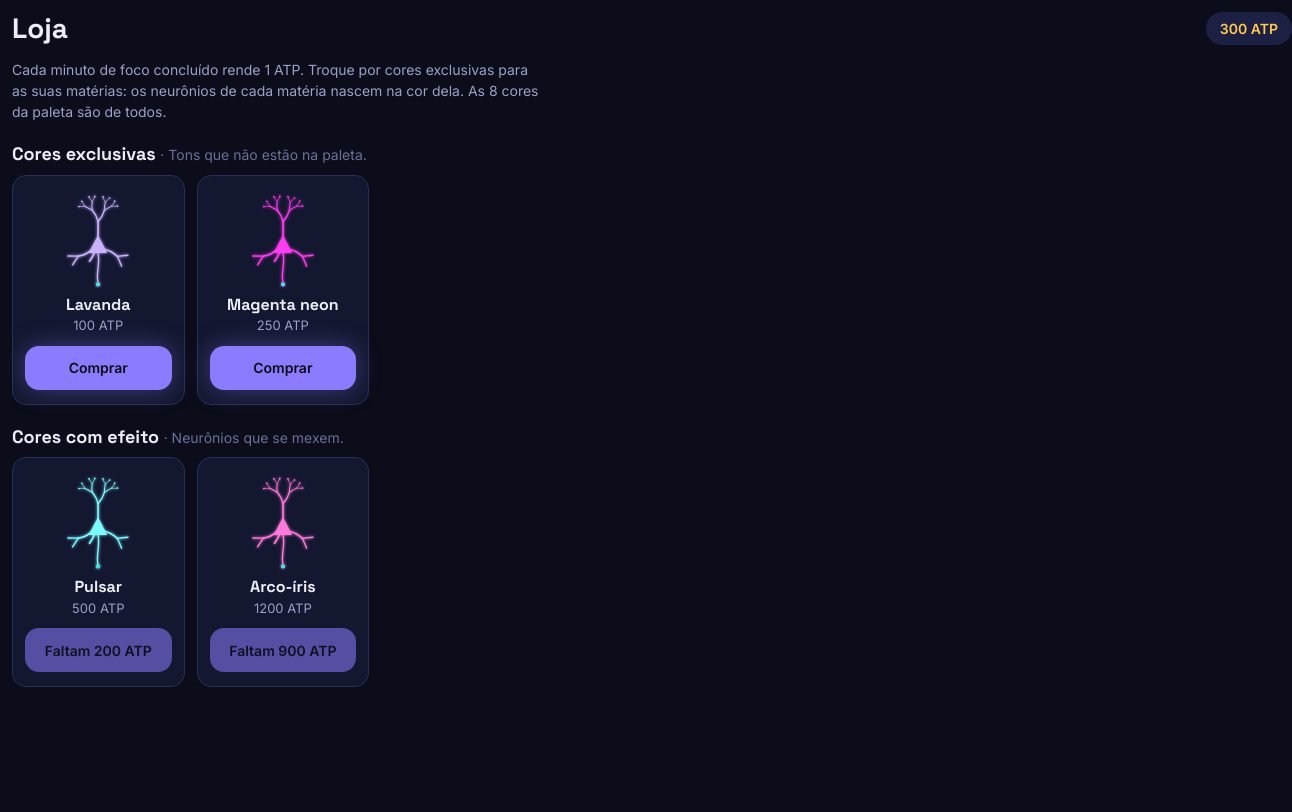
Test: tela da loja › critério: compra com confirmação, desconta o saldo e manda para as matérias
The image size is (1292, 812).
expect the text named "Saldo: 300 ATP" is shown: met, box [1206,12,1291,45]
Click the button with aria-label "Comprar a cor Magenta neon por 250 ATP": (283, 368) [210,346,356,390]
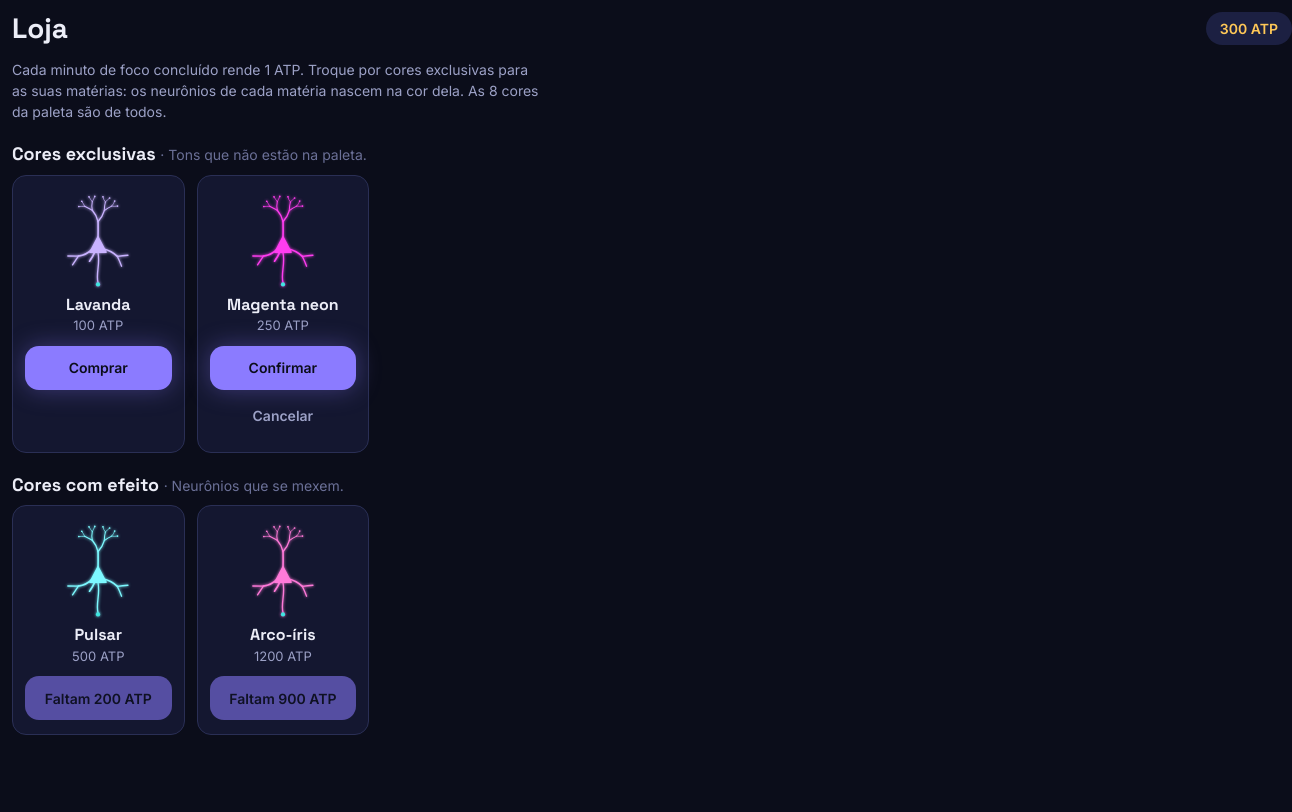
Click the button with aria-label "Confirmar a compra da cor Magenta neon por 250 ATP": (283, 368) [210,346,356,390]
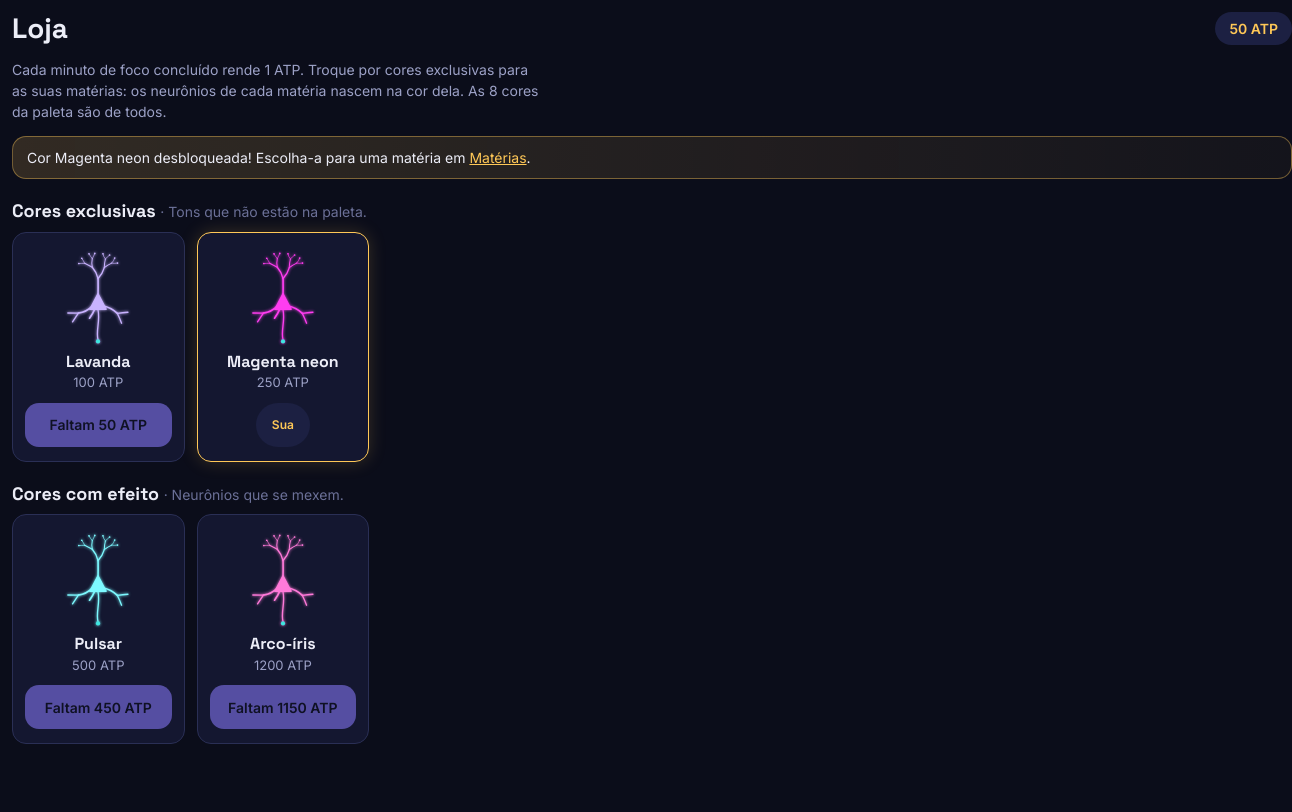
expect the text named "Saldo: 50 ATP" is shown: met, box [1215,12,1291,45]
expect the text "Sua" is shown: met, box [256,403,310,447]
expect the message reads "Cor Magenta neon desbloqueada! Escolha-a para uma matéria em Matérias .": met, box [12,136,1291,179]
